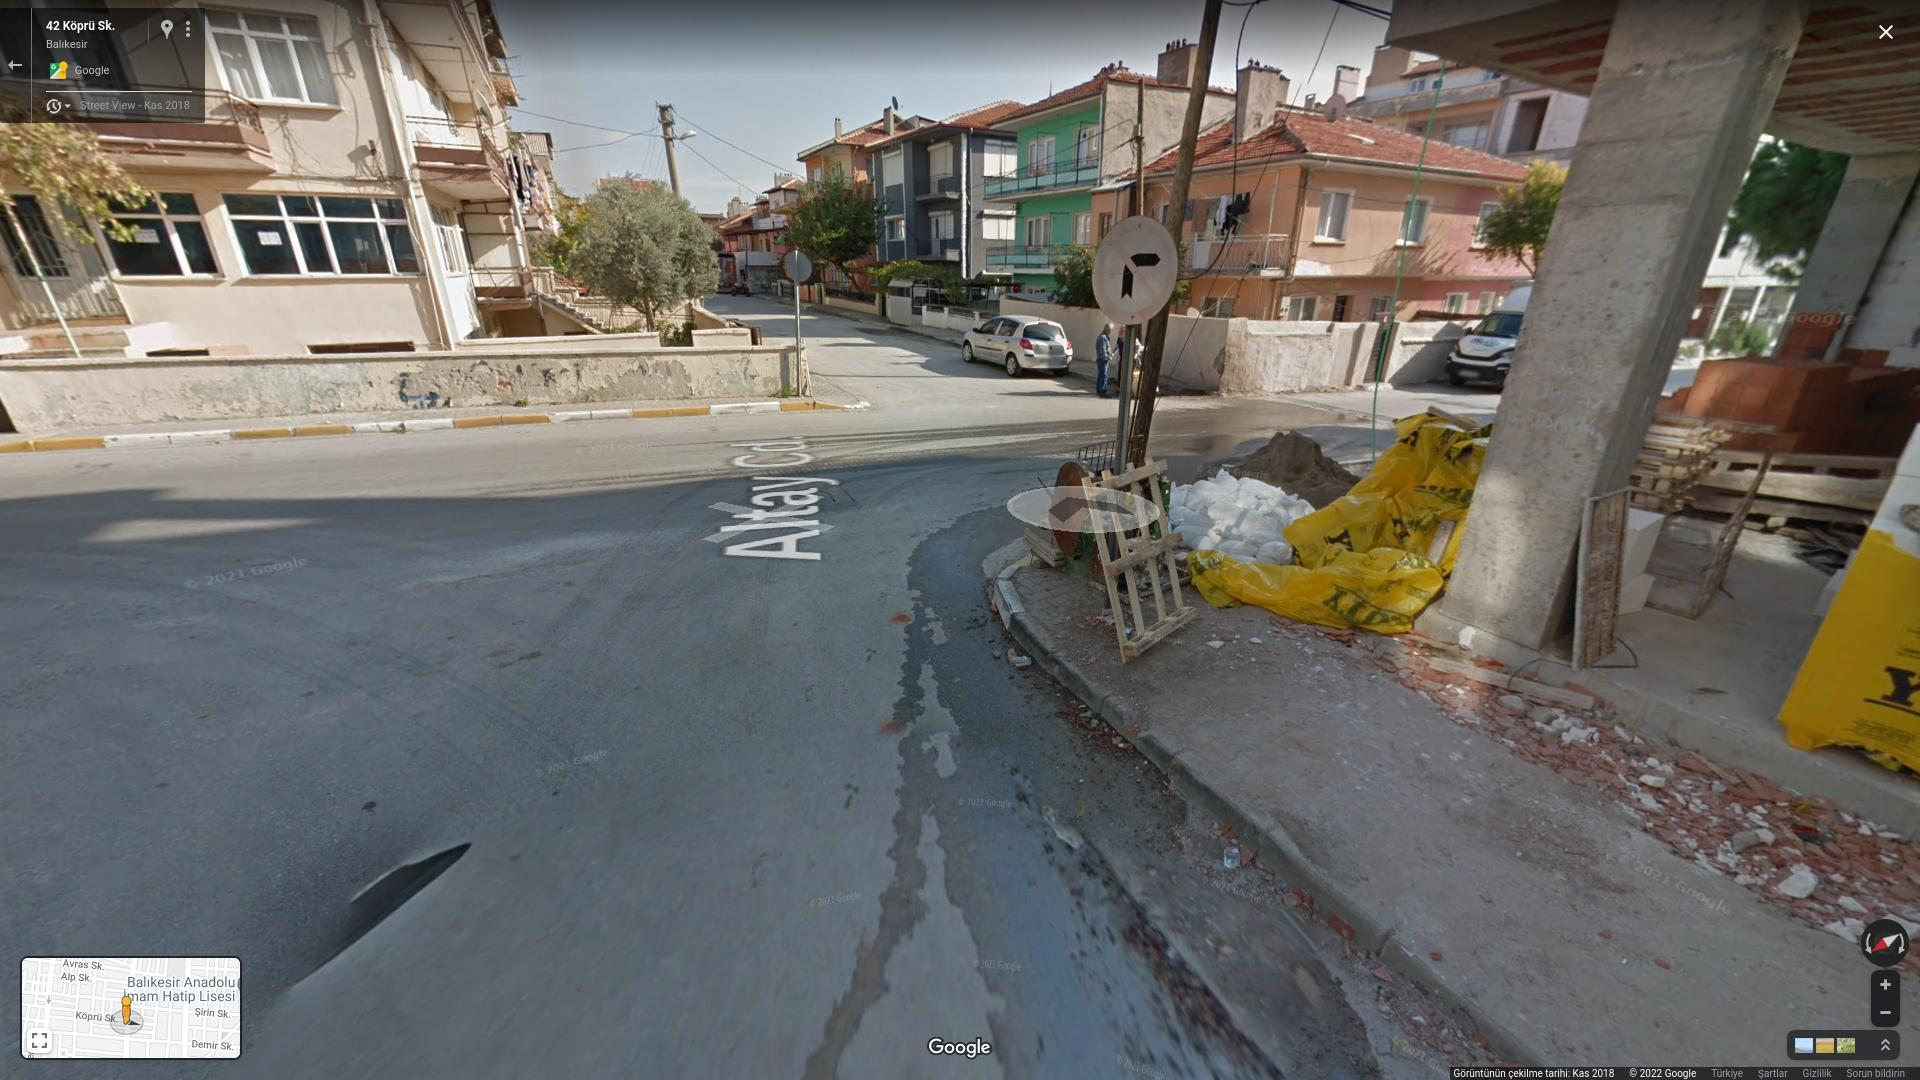rightturnsareforbidden: (1087, 214, 1184, 331)
